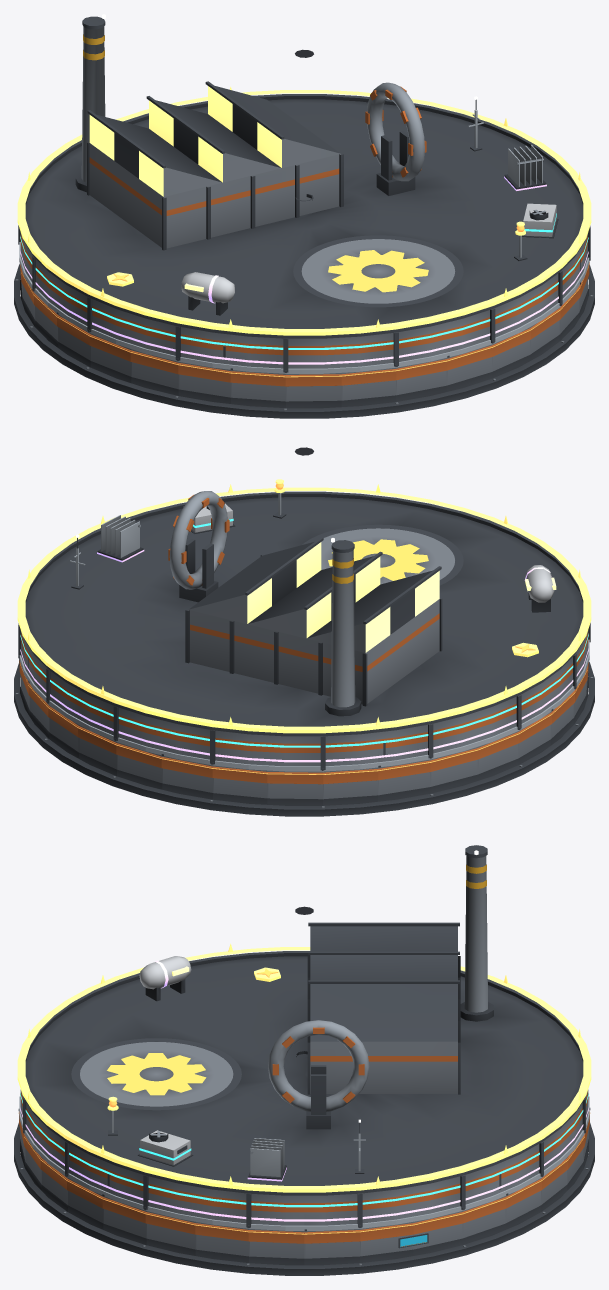
File: magnet_works_l.glb
The picture shows the model from 3 angles, top to bottom: view 1: azimuth 30°, elevation 25°; view 2: azimuth 150°, elevation 25°; view 3: azimuth 270°, elevation 25°; orthographic projection.
Parts seen in each view (by area): view 1: Roof, Base, L4, Wall_21, Wall_20, Wall_22, Wall_19, Wall_23, Wall_18, Upper_21, Wall_24, Upper_22 (+20 smaller); view 2: Roof, Base, L4, Wall_10, Wall_11, Wall_09, Wall_12, Wall_08, Wall_13, Upper_10, Wall_07, Upper_09 (+23 smaller); view 3: Roof, Base, L4, Wall_00, Wall_31, Wall_30, Wall_29, Wall_01, Wall_02, Upper_00, Upper_31, Wall_28 (+18 smaller).
Part boxes in pixels (x1=…): Roof: x1=24, y1=14, x2=584, y2=338; Base: x1=14, y1=264, x2=594, y2=418; L4: x1=181, y1=144, x2=546, y2=315; Wall_21: x1=285, y1=373, x2=341, y2=408; Wall_20: x1=230, y1=368, x2=285, y2=408; Wall_22: x1=341, y1=367, x2=396, y2=406; Wall_19: x1=178, y1=362, x2=230, y2=403; Wall_23: x1=396, y1=358, x2=447, y2=401; Wall_18: x1=130, y1=349, x2=178, y2=395; Upper_21: x1=285, y1=337, x2=341, y2=372; Wall_24: x1=446, y1=344, x2=492, y2=391; Upper_22: x1=341, y1=332, x2=396, y2=367; Roof: x1=24, y1=447, x2=584, y2=736; Base: x1=14, y1=661, x2=594, y2=816; L4: x1=97, y1=515, x2=556, y2=612; Wall_10: x1=267, y1=770, x2=323, y2=805; Wall_11: x1=323, y1=767, x2=378, y2=805; Wall_09: x1=212, y1=765, x2=267, y2=804; Wall_12: x1=378, y1=759, x2=430, y2=801; Wall_08: x1=161, y1=754, x2=212, y2=799; Wall_13: x1=430, y1=747, x2=478, y2=793; Upper_10: x1=267, y1=735, x2=323, y2=770; Wall_07: x1=116, y1=742, x2=162, y2=789; Upper_09: x1=212, y1=730, x2=267, y2=765; Roof: x1=24, y1=845, x2=584, y2=1195; Base: x1=14, y1=1123, x2=594, y2=1275; L4: x1=139, y1=956, x2=286, y2=1181; Wall_00: x1=304, y1=1229, x2=360, y2=1265; Wall_31: x1=248, y1=1229, x2=304, y2=1265; Wall_30: x1=195, y1=1222, x2=248, y2=1262; Wall_29: x1=145, y1=1211, x2=195, y2=1255; Wall_01: x1=360, y1=1222, x2=413, y2=1262; Wall_02: x1=413, y1=1211, x2=463, y2=1255; Upper_00: x1=304, y1=1193, x2=360, y2=1227; Upper_31: x1=248, y1=1193, x2=304, y2=1227; Wall_28: x1=102, y1=1194, x2=146, y2=1244.
Bounding box in the file's own units: 18.96 × 8.89 × 18.96.
